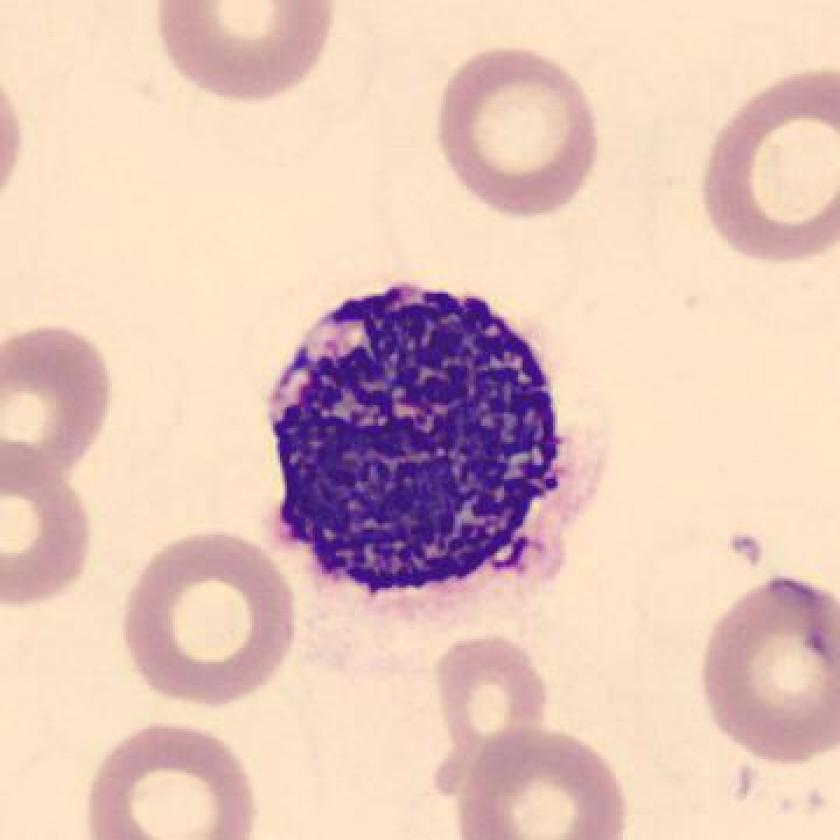basophil: (260, 274, 573, 598)
